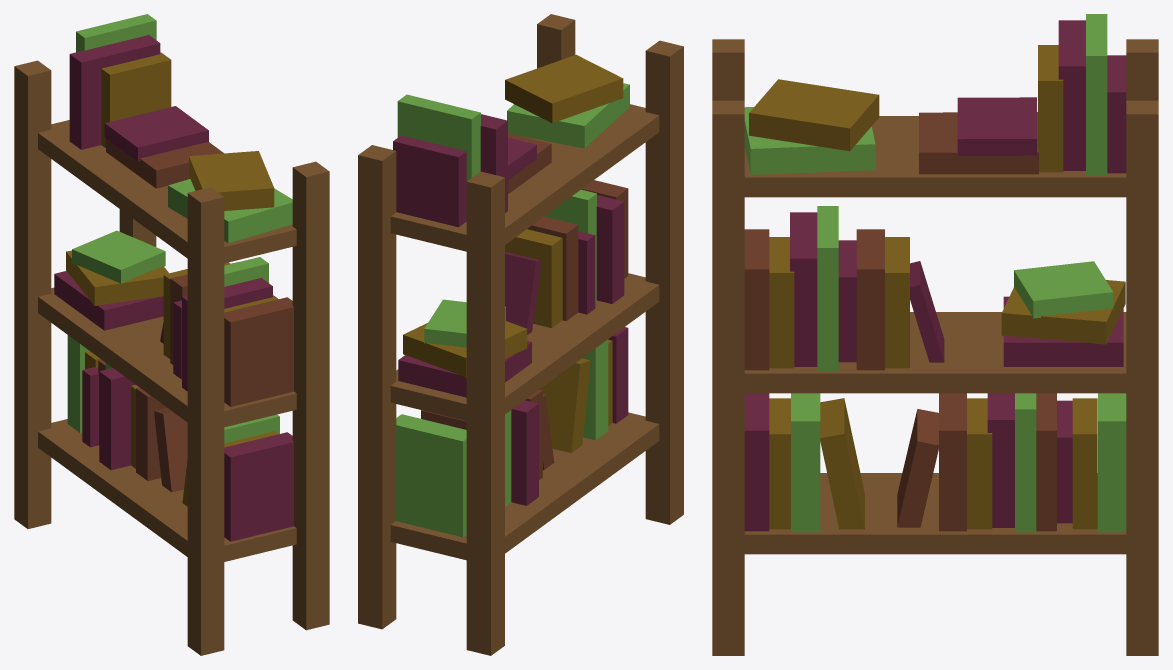
The model's file is bookshelf.fbx.
The picture shows the model from 3 angles, left to right: view 1: azimuth 30°, elevation 25°; view 2: azimuth 150°, elevation 25°; view 3: azimuth 270°, elevation 25°; orthographic projection. The views are drawn at different scales.
Parts seen in each view (by area): view 1: shelf; view 2: shelf; view 3: shelf.
Boxes of the visible parts, <box> form: shelf: <box>14,14,329,655</box>; shelf: <box>358,14,683,655</box>; shelf: <box>712,14,1158,655</box>.
Size of the model in its own units: 111 by 408 by 279.
